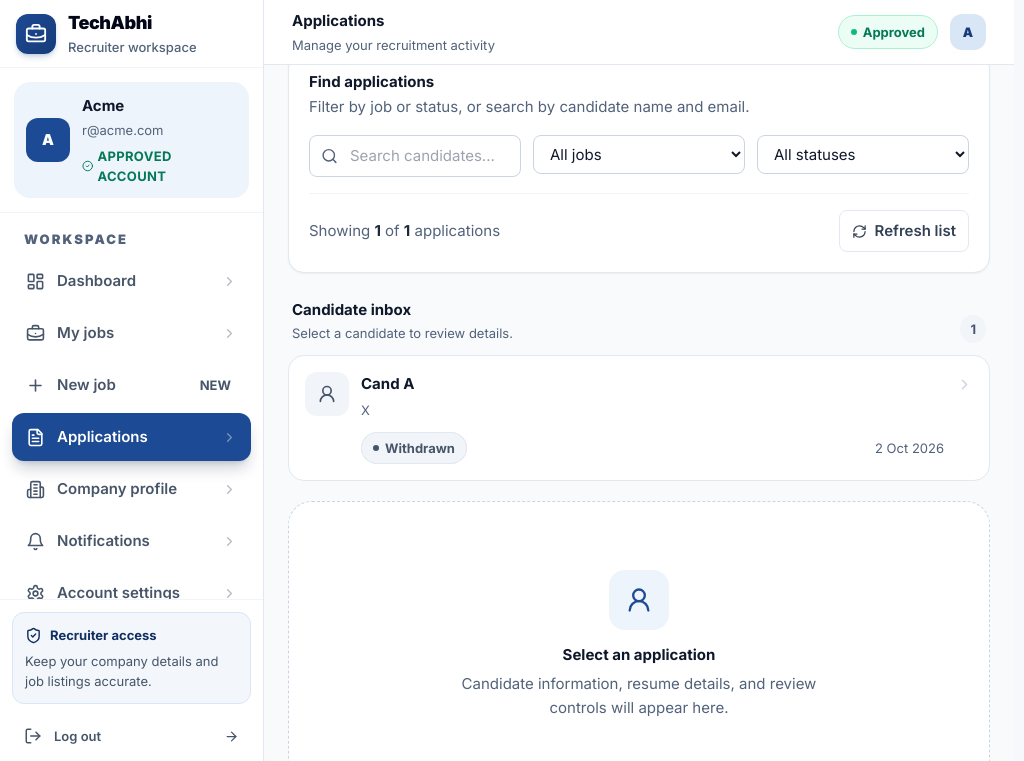
Scenario: recruiter area › withdrawn application shows no personal data
The image size is (1024, 761).
(page scrolled)
What coordinates should you click on to do the following:
click the text "Cand A"
I would click on:
 (388, 384)
Its box is [361,372,414,396].
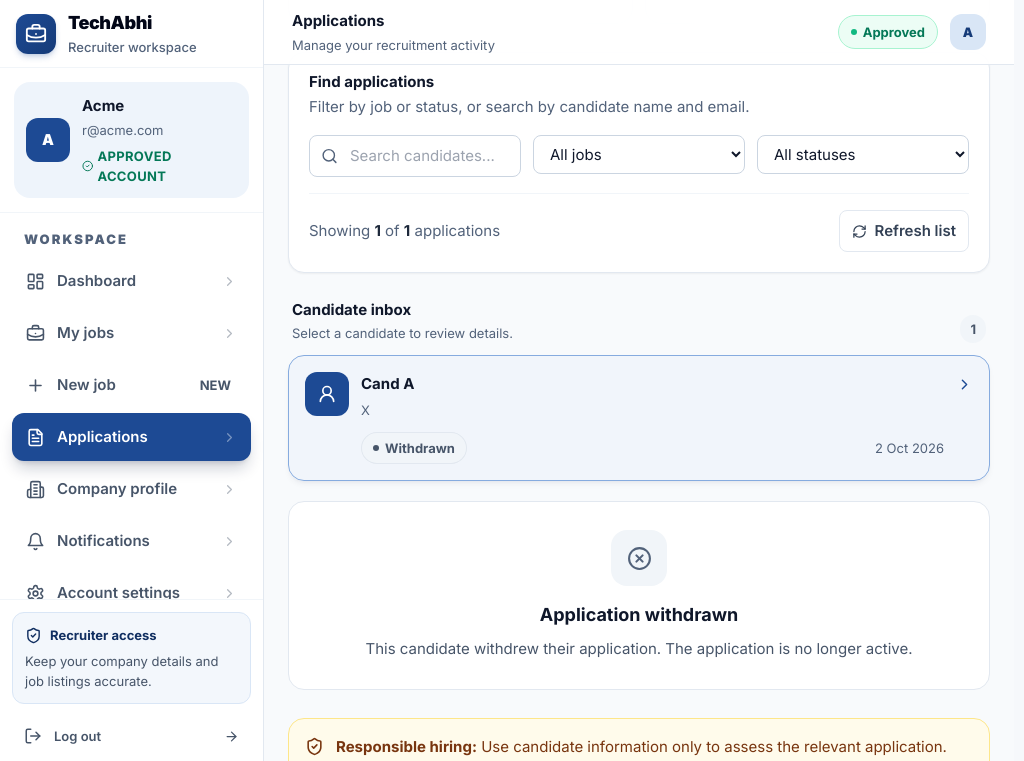
Expected: the text "withdrew their application" is shown, [366,639,913,658]
